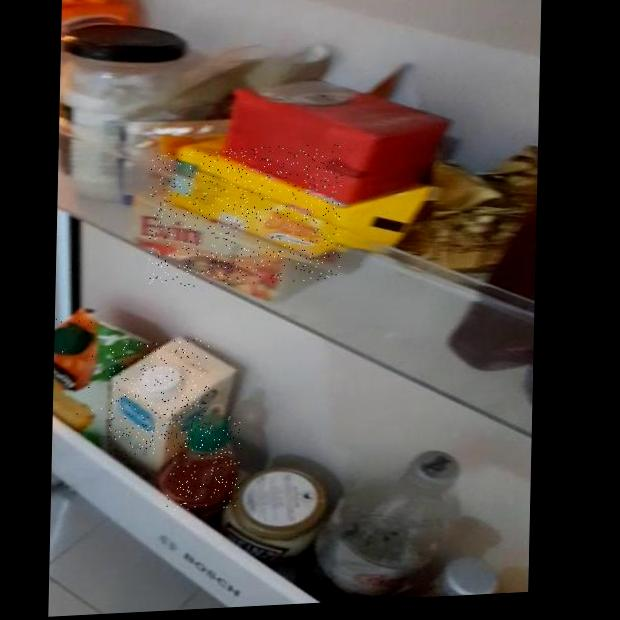butter: (149, 143, 342, 289)
juice: (52, 311, 114, 438)
milk: (108, 338, 210, 457)
sauce: (166, 416, 240, 511)
